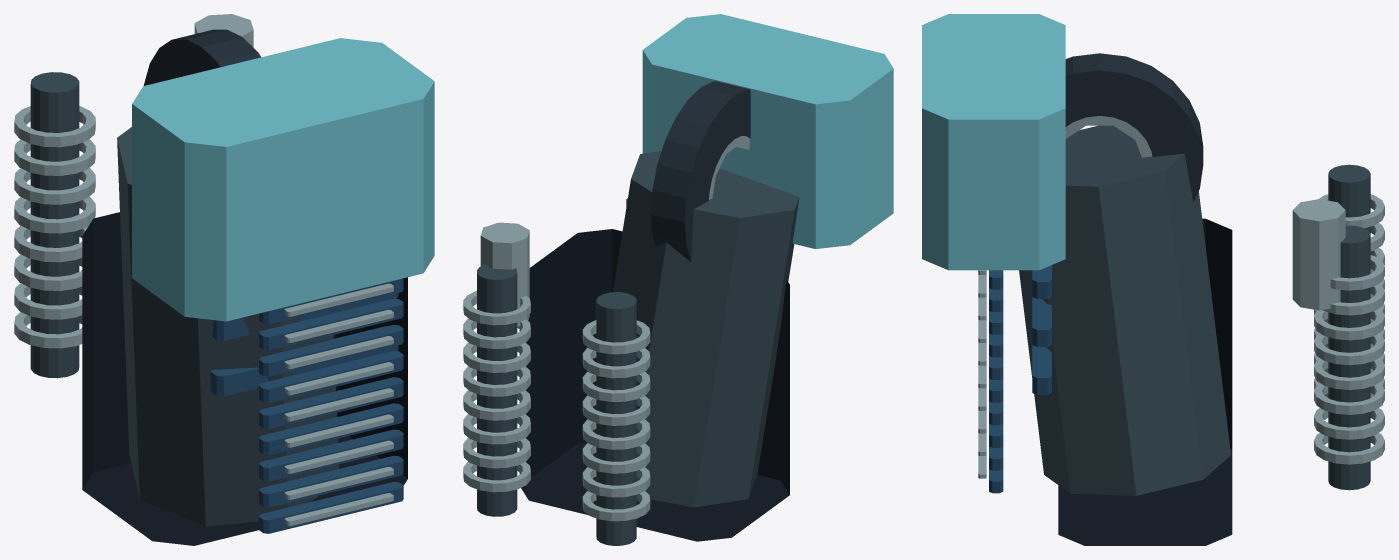
Rendered from enemy_marksman_4k_shin_l.obj.
3 views of the same model, side by side, from view 1: azimuth 30°, elevation 25°; view 2: azimuth 150°, elevation 25°; view 3: azimuth 270°, elevation 25° (orthographic). The views are drawn at different scales.
Size of the model in its own units: 0.3988 by 0.597 by 0.612.
